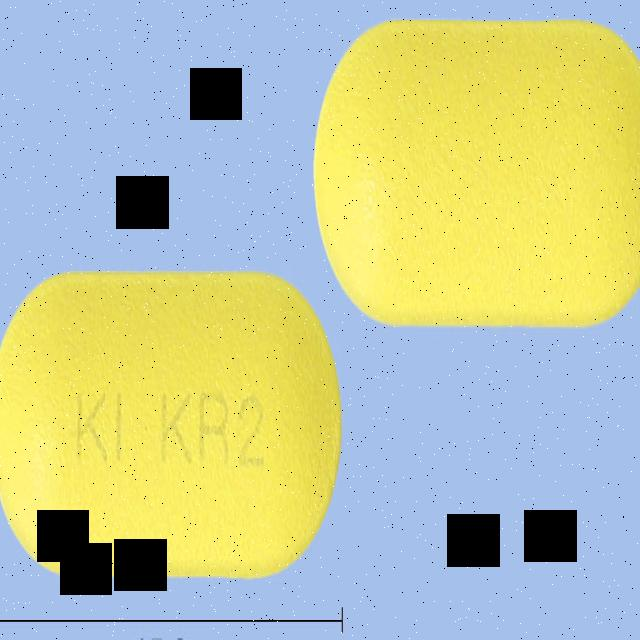Clarithromycin Tab- LGCI: (0, 266, 343, 578)
